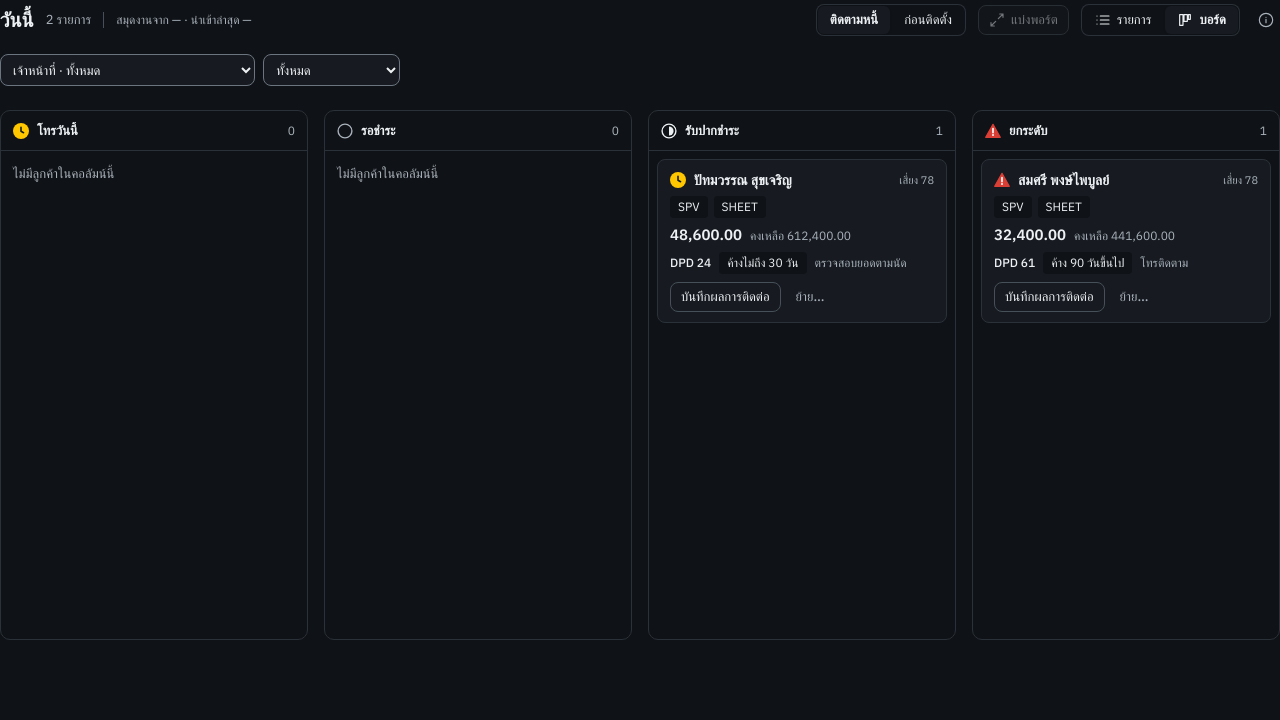
Test: Today › opens a board card in the case pop-up instead of leaving the board
What coordinates should you click on to do the following:
click the button "สมศรี พงษ์ไพบูลย์"
I would click on:
 (1064, 180)
Its box is 1018,170 -> 1109,190.
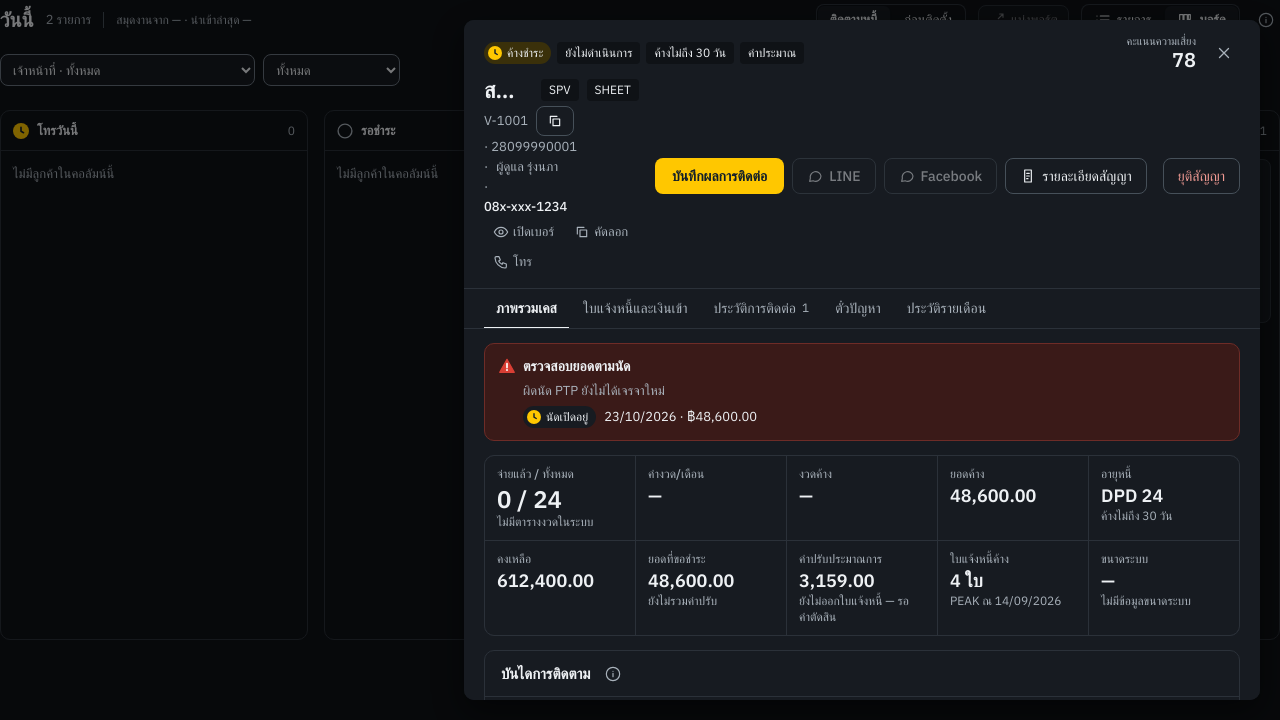
Expected: the heading "สมศรี พงษ์ไพบูลย์" is shown, 484,76 -> 525,104
